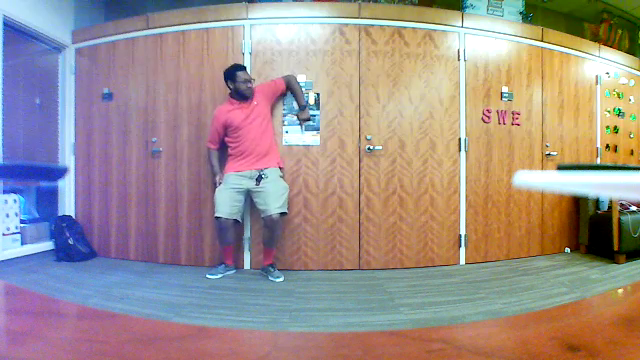down: (291, 105, 317, 137)
